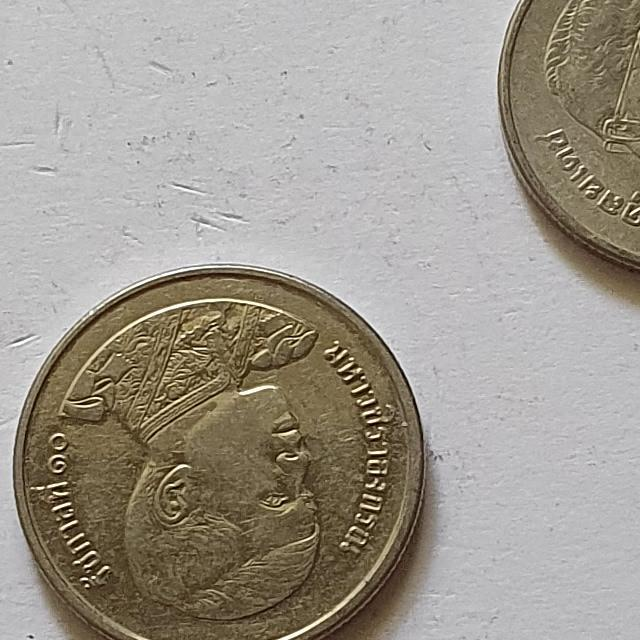1 Bath: (10, 258, 437, 640), (497, 1, 640, 308)
